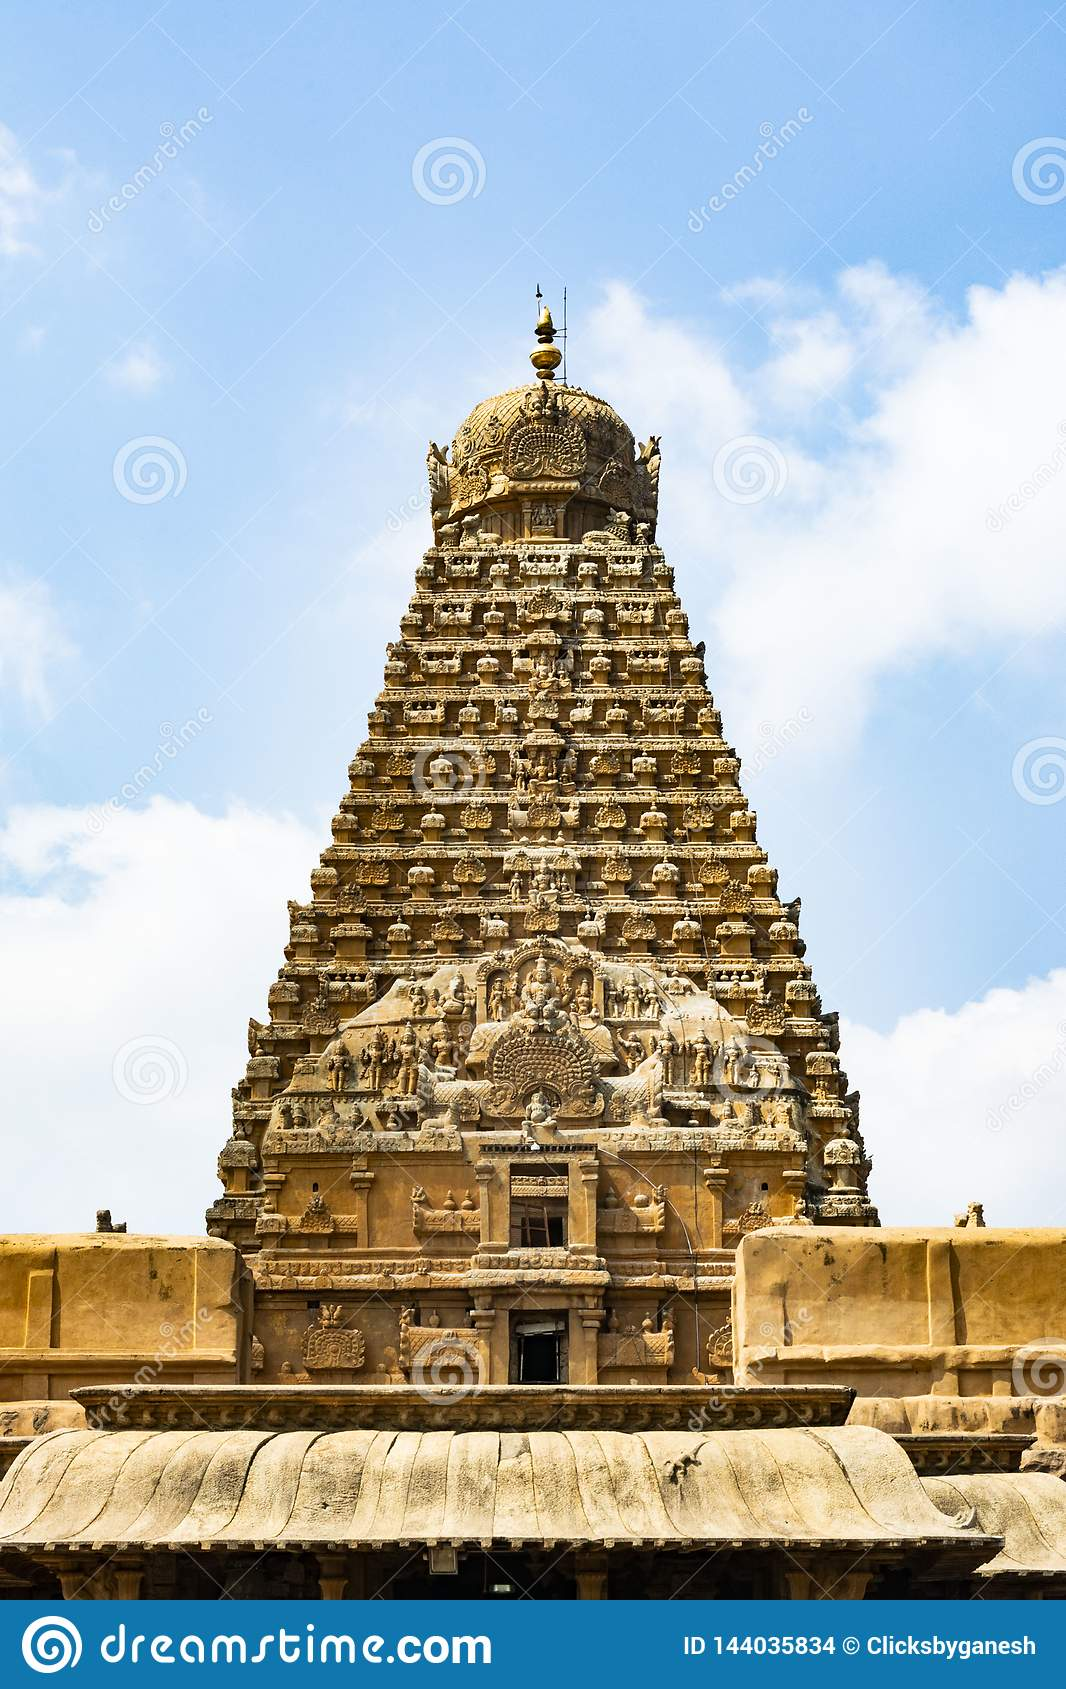Temple: (99, 300, 951, 1421)
